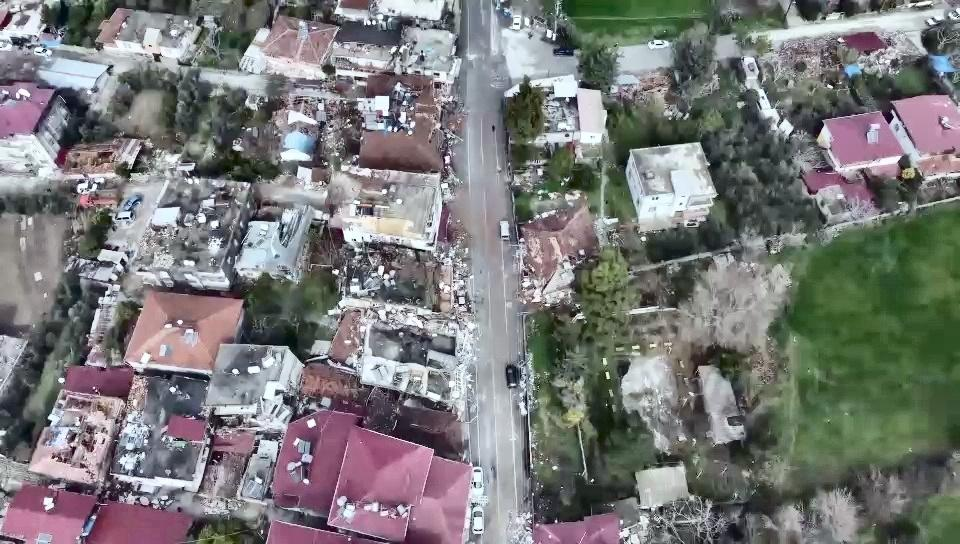kapali: (248, 72, 479, 105)
